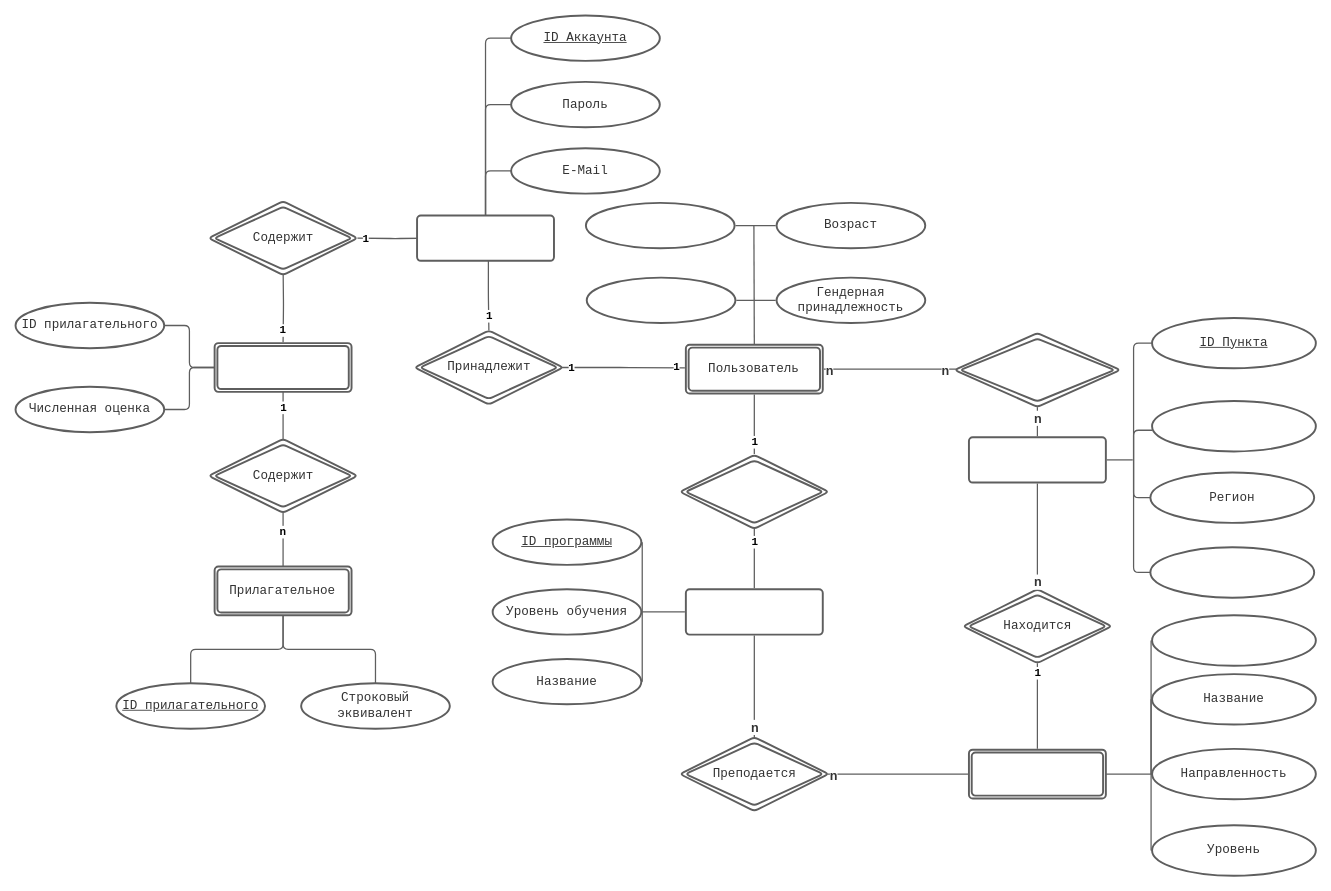
This 1331x891 diagram has some shape labels left out. The box of each missing label's shape, as (x1, y1, x2, y2) in pixels:
ID места: (1151, 614, 1316, 666)
ID пользователя: (585, 202, 735, 249)
Аккаунт: (416, 214, 555, 261)
Имя: (1151, 400, 1316, 452)
Место обучения: (968, 748, 1106, 799)
Населенный пункт: (968, 436, 1106, 483)
национальность: (585, 276, 736, 324)
Обучается: (679, 454, 829, 529)
Округ: (1149, 546, 1315, 598)
Программа: (685, 588, 823, 635)
проживал(ет): (953, 332, 1121, 408)
Результат тестирования: (213, 342, 352, 392)
